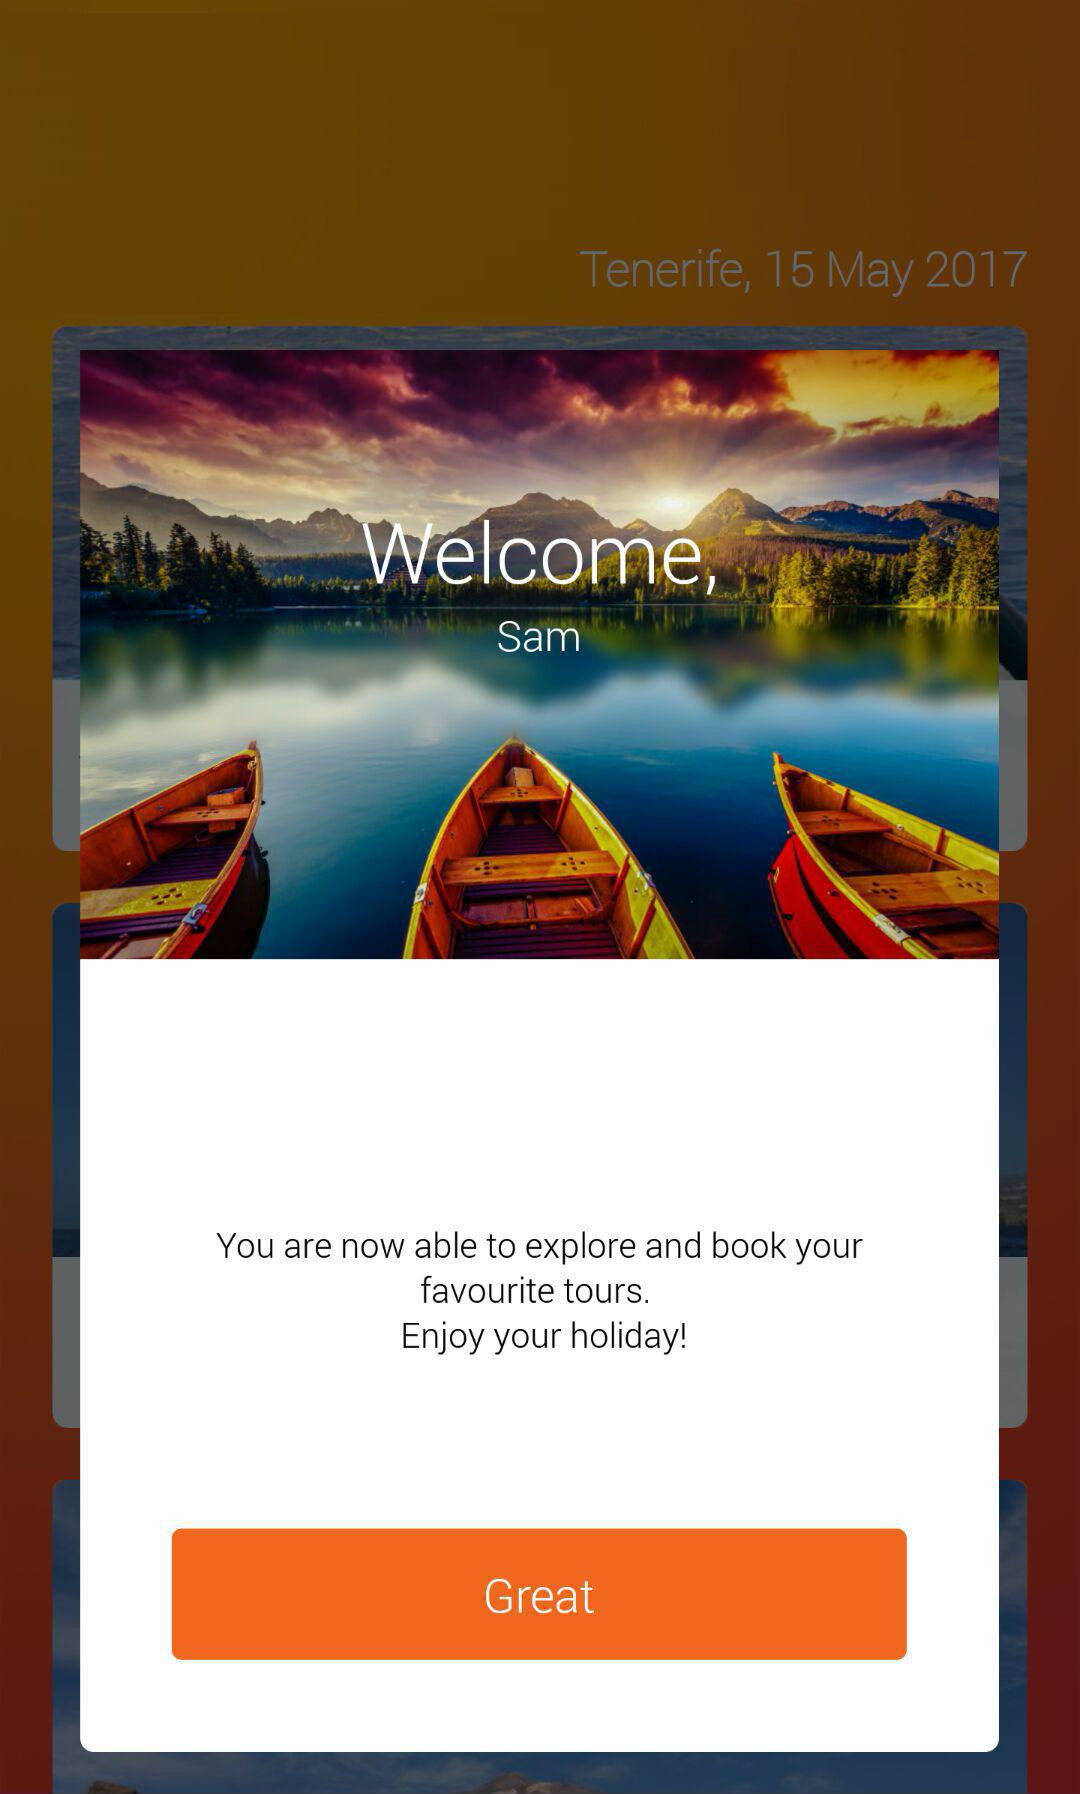Image: (81, 351, 998, 960)
Modal: (79, 350, 1001, 1753)
Text: (217, 1230, 863, 1357), (361, 519, 717, 597), (577, 249, 1030, 300), (497, 620, 582, 655)
TextButton: (172, 1527, 908, 1661)
